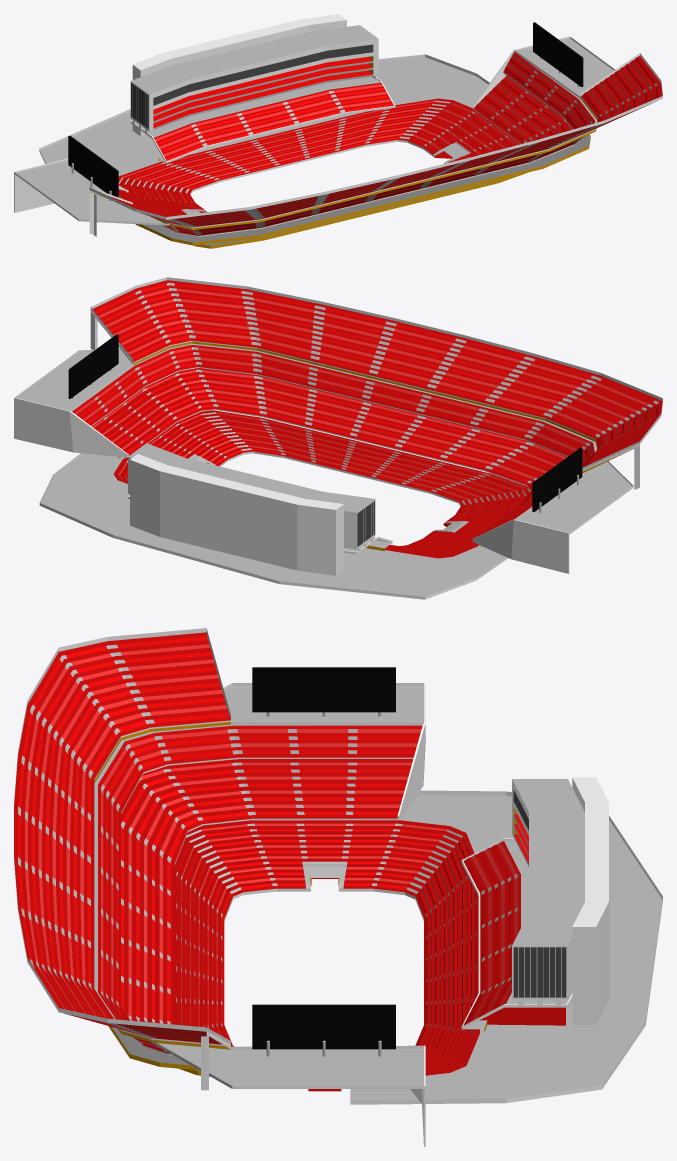
Rendered from LevisStadium.fbx.
3 renders of one model, top to bottom at view 1: azimuth 30°, elevation 25°; view 2: azimuth 150°, elevation 25°; view 3: azimuth 270°, elevation 25°, orthographic. The views are drawn at different scales.
Parts seen in each view (by area): view 1: Stadium, Screen2, Screen1; view 2: Stadium, Screen1, Screen2; view 3: Stadium, Screen2, Screen1.
Part boxes in pixels (x1,y1,x2,y2): Stadium: [14, 14, 662, 248]; Screen2: [533, 22, 583, 86]; Screen1: [68, 135, 118, 201]; Stadium: [14, 277, 662, 599]; Screen1: [532, 447, 582, 512]; Screen2: [68, 334, 118, 398]; Stadium: [14, 628, 662, 1146]; Screen2: [252, 1004, 395, 1056]; Screen1: [252, 667, 395, 716].
Bounding box in the file's own units: 59795 × 10860 × 40668.
